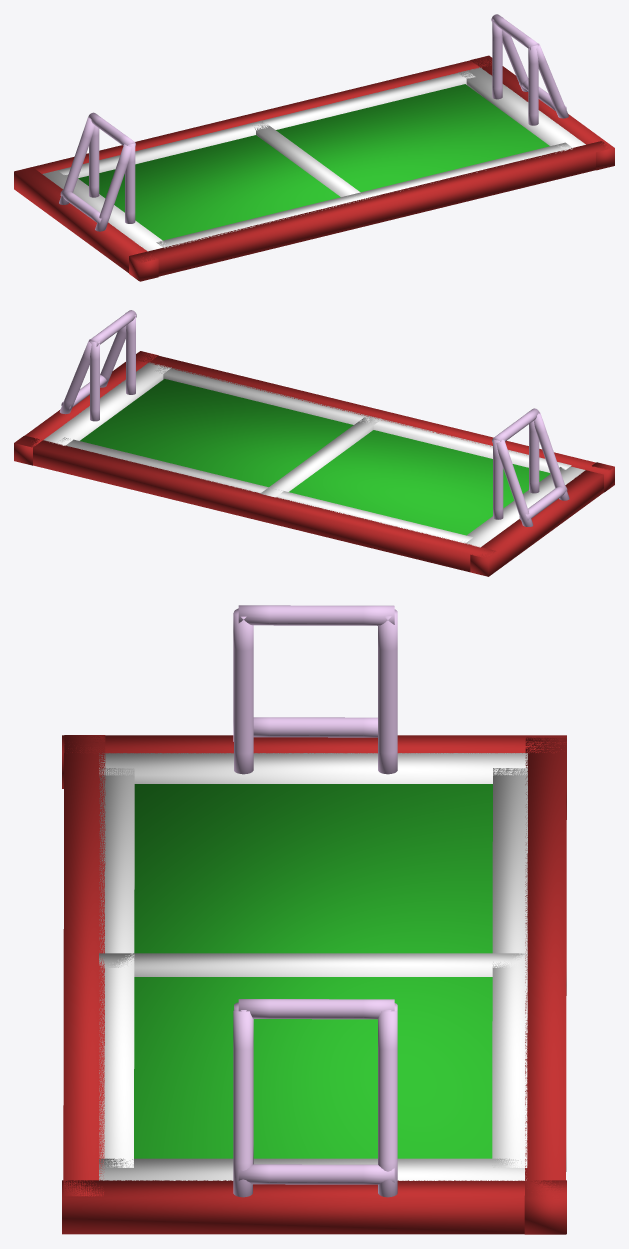
The model's file is lapfutsal.fbx.
The picture shows the model from 3 angles, top to bottom: view 1: azimuth 30°, elevation 25°; view 2: azimuth 150°, elevation 25°; view 3: azimuth 270°, elevation 25°; orthographic projection. The views are drawn at different scales.
Parts seen in each view (by area): view 1: Box001, Box010, Box004, Box009, Box007, Box011, Box012, Box008, Box006, Box002, Cylinder004, Cylinder003 (+9 smaller); view 2: Box001, Box009, Box011, Box010, Box007, Box004, Box012, Box006, Box008, Box002, Cylinder003, Cylinder004 (+9 smaller); view 3: Box001, Box008, Box009, Box010, Box004, Box011, Box002, Box006, Box007, Box012, Cylinder010, Cylinder009 (+6 smaller).
Boxes of the visible parts, x1,y1,x2,y2 form: Box001: (78, 84, 549, 240); Box010: (129, 141, 609, 281); Box004: (58, 71, 475, 178); Box009: (33, 55, 491, 173); Box007: (14, 167, 158, 281); Box011: (156, 142, 572, 248); Box012: (458, 67, 585, 150); Box008: (470, 55, 614, 170); Box006: (251, 120, 362, 196); Box002: (42, 170, 165, 251); Cylinder004: (95, 144, 132, 231); Cylinder003: (59, 117, 94, 204); Box001: (80, 379, 550, 535); Box009: (14, 435, 495, 572); Box011: (155, 366, 571, 472); Box010: (136, 352, 614, 492); Box007: (470, 462, 614, 576); Box004: (60, 437, 473, 543); Box012: (43, 362, 171, 445); Box006: (260, 416, 381, 497); Box008: (14, 351, 158, 465); Box002: (464, 466, 585, 547); Cylinder003: (496, 439, 533, 526); Cylinder004: (534, 413, 569, 500); Box001: (134, 784, 492, 1158); Box008: (62, 1180, 566, 1234); Box009: (524, 737, 566, 1234); Box010: (63, 735, 105, 1196); Box004: (492, 768, 527, 1167); Box011: (99, 768, 134, 1167); Box002: (99, 753, 527, 783); Box006: (99, 953, 527, 976); Box007: (62, 735, 566, 788); Box012: (99, 1158, 526, 1180); Cylinder010: (233, 1010, 252, 1197); Cylinder009: (378, 1010, 397, 1197).
Size of the model in its own units: 16721 by 3346 by 7692.
